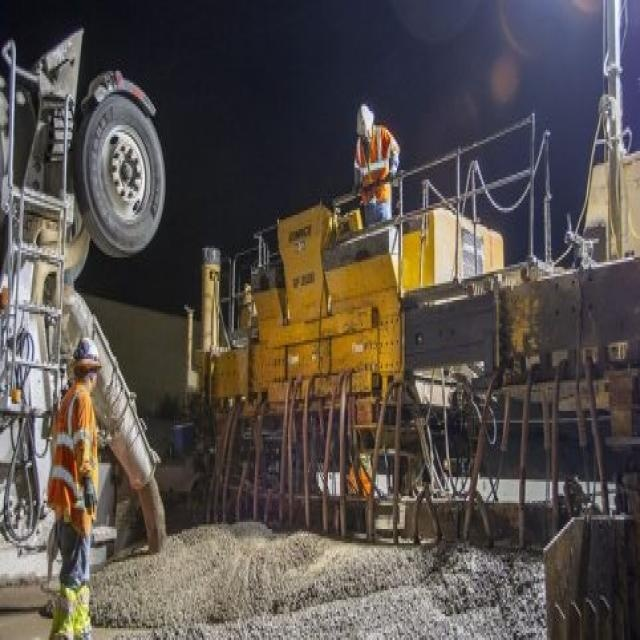Con_Chaleco: (53, 384, 98, 520), (358, 131, 390, 201)
